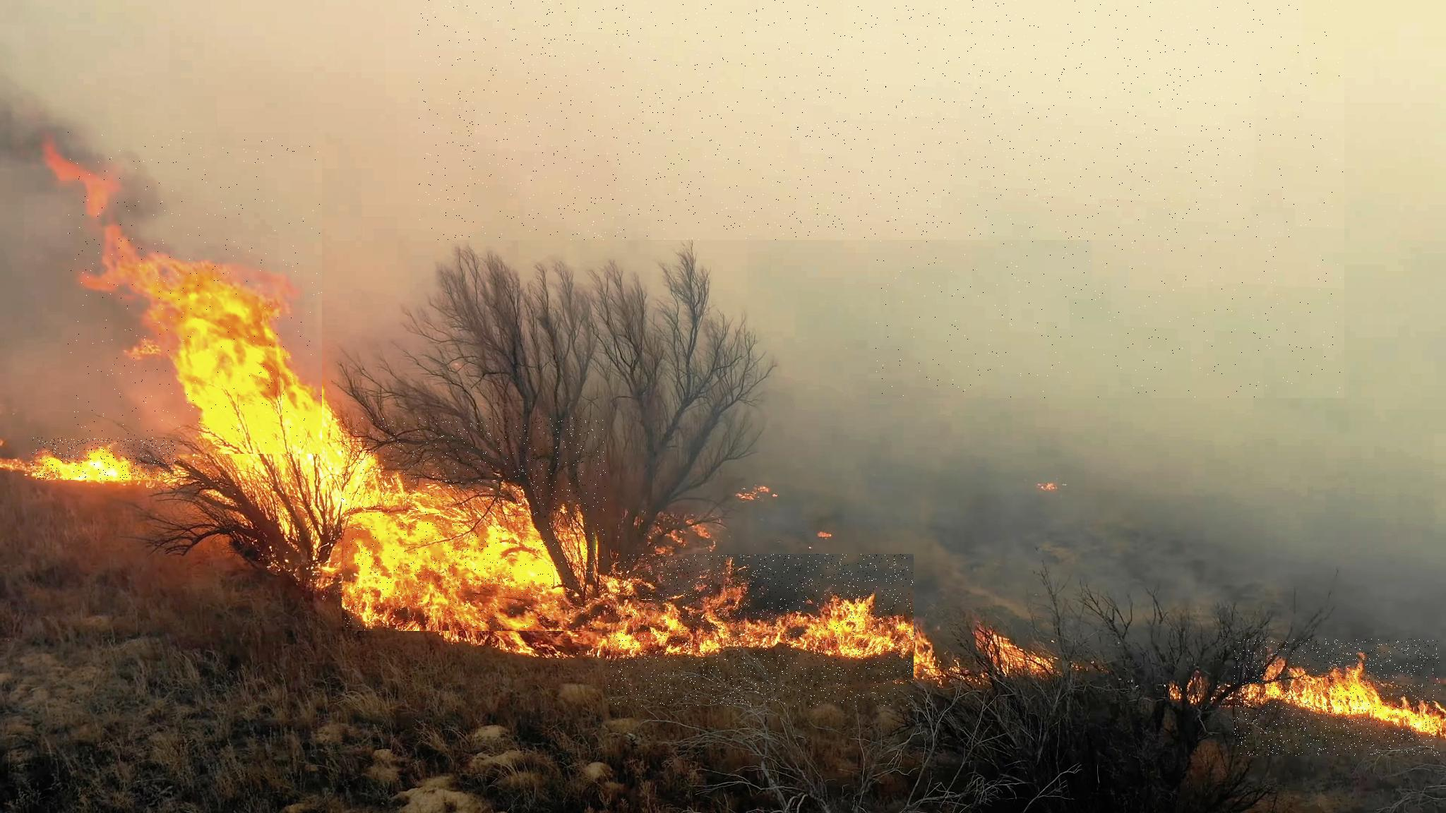fire: (68, 131, 322, 454), (342, 418, 606, 631), (609, 554, 914, 706), (1234, 639, 1440, 756), (32, 438, 175, 480)
smoke: (418, 0, 1261, 240), (874, 0, 1344, 398)
